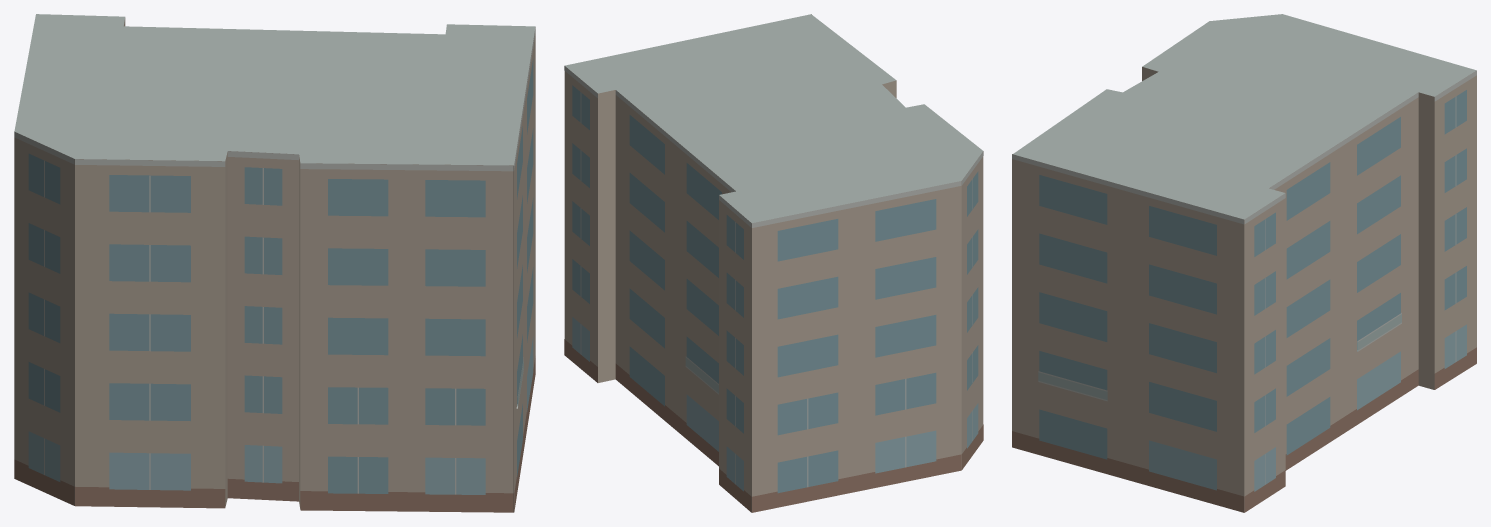
File: survey-upis-33029870.glb
The picture shows the model from 3 angles, left to right: view 1: azimuth 30°, elevation 25°; view 2: azimuth 150°, elevation 25°; view 3: azimuth 270°, elevation 25°; orthographic projection. The views are drawn at different scales.
Visible parts, largest first — view 1: survey-upis-33029870.tmp; view 2: survey-upis-33029870.tmp; view 3: survey-upis-33029870.tmp.
Boxes of the visible parts, left/top/right/bottom form: survey-upis-33029870.tmp: left=14, top=14, right=535, bottom=512; survey-upis-33029870.tmp: left=564, top=14, right=983, bottom=512; survey-upis-33029870.tmp: left=1012, top=14, right=1476, bottom=512.
Bounding box in the file's own units: 21.81 × 14.5 × 20.83.
